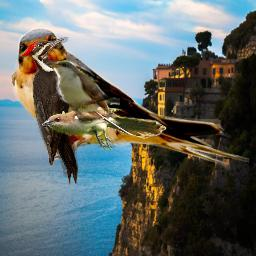Cuckoo: (42, 106, 167, 150), (44, 55, 120, 118)
Swallow: (9, 27, 249, 174)
Woodpecker: (19, 37, 98, 185)
